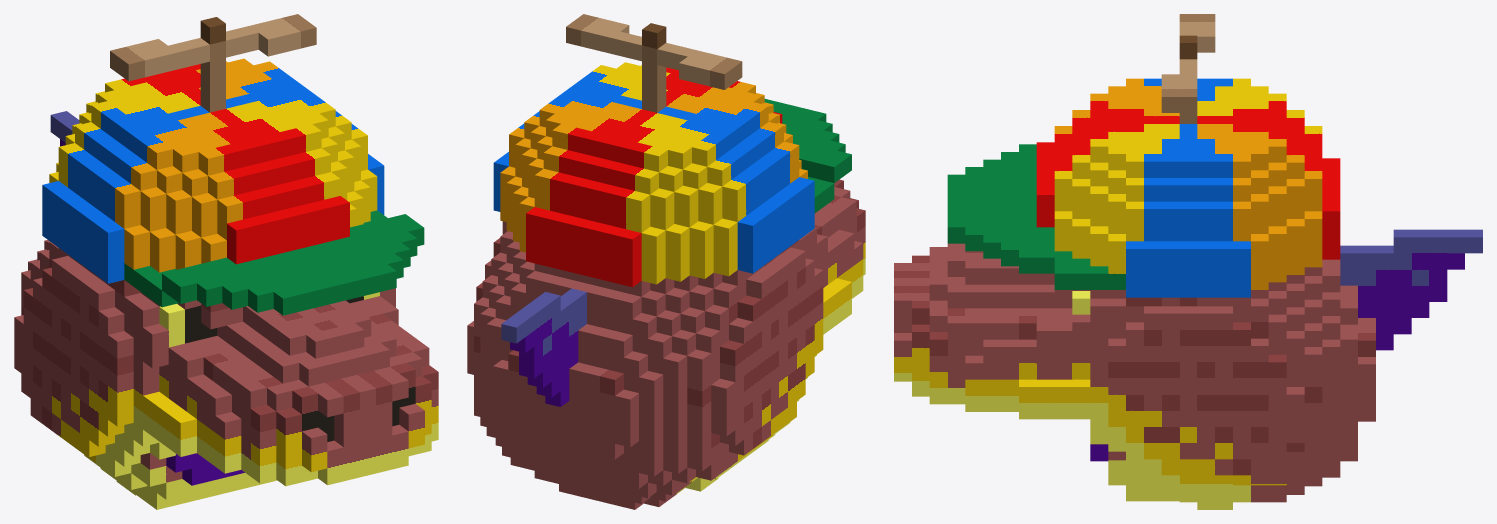
The model's file is rainbow hat_cool dude glasses.gltf.
The picture shows the model from 3 angles, left to right: view 1: azimuth 30°, elevation 25°; view 2: azimuth 150°, elevation 25°; view 3: azimuth 270°, elevation 25°; orthographic projection. The views are drawn at different scales.
Visible parts, largest first — view 1: C40_H_RainBowH_CoolDude_3DG_RBShade-Mesh; view 2: C40_H_RainBowH_CoolDude_3DG_RBShade-Mesh; view 3: C40_H_RainBowH_CoolDude_3DG_RBShade-Mesh.
Boxes of the visible parts, box(x1,y1,x2,y2) form: C40_H_RainBowH_CoolDude_3DG_RBShade-Mesh: box(14, 14, 438, 509); C40_H_RainBowH_CoolDude_3DG_RBShade-Mesh: box(467, 14, 865, 509); C40_H_RainBowH_CoolDude_3DG_RBShade-Mesh: box(894, 14, 1482, 509).
Size of the model in its own units: 17 by 27 by 33.
Materials: 1 (1 with a texture image).
